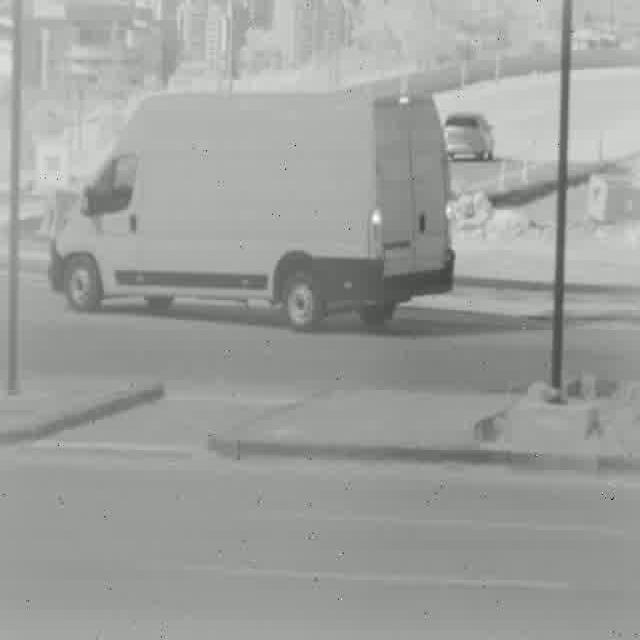Car: (46, 90, 452, 326), (444, 115, 494, 160)
